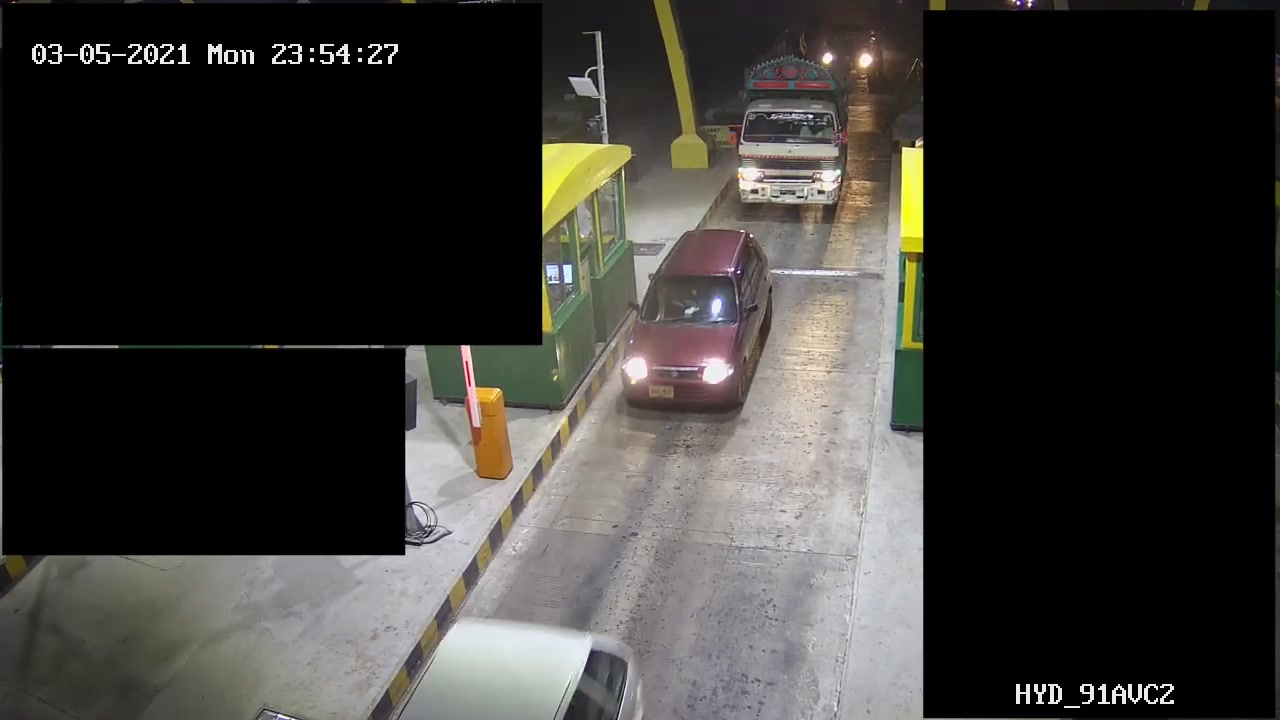F1: (614, 217, 792, 424)
